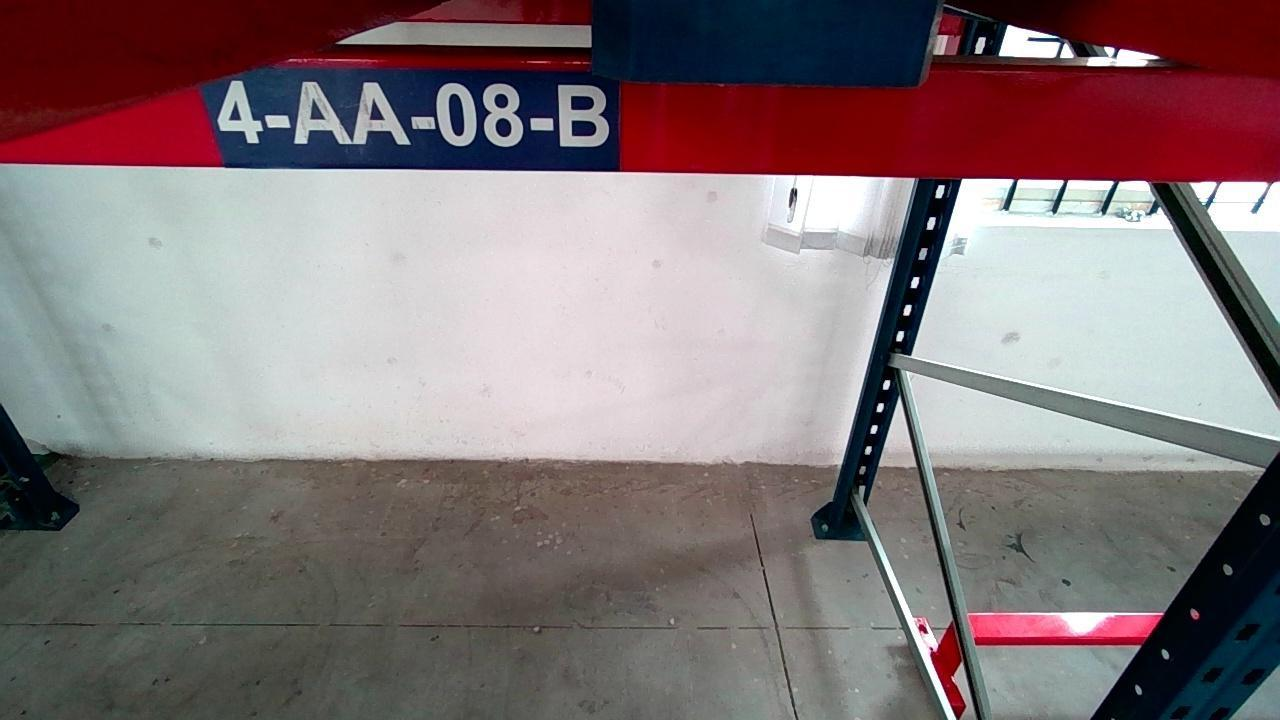h_rack: (0, 70, 1278, 179)
